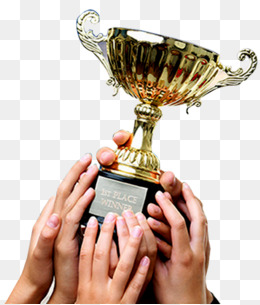trophy: (73, 7, 260, 235)
